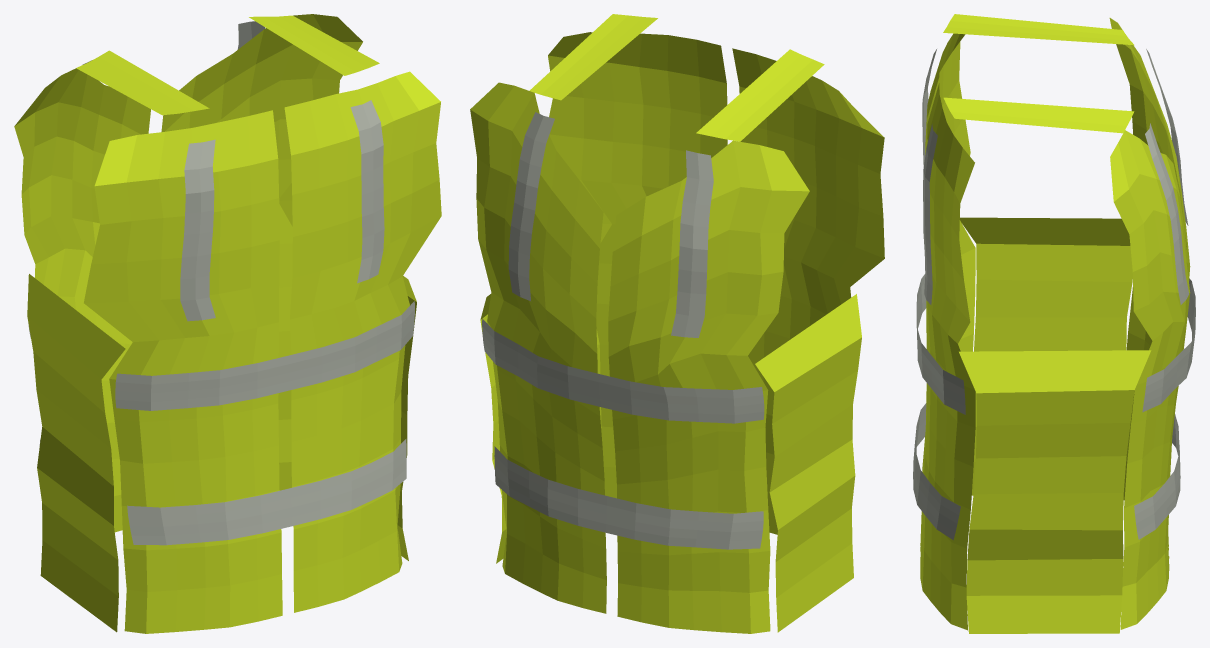
The model's file is lwf_steward_male_overlay_v2.glb.
3 views of the same model, side by side, from view 1: azimuth 30°, elevation 25°; view 2: azimuth 150°, elevation 25°; view 3: azimuth 270°, elevation 25° (orthographic). The views are drawn at different scales.
Parts seen in each view (by area): view 1: LWF_Steward_Male_Overlay; view 2: LWF_Steward_Male_Overlay; view 3: LWF_Steward_Male_Overlay.
Boxes of the visible parts, x1,y1,x2,y2 form: LWF_Steward_Male_Overlay: [14, 14, 441, 633]; LWF_Steward_Male_Overlay: [470, 14, 884, 633]; LWF_Steward_Male_Overlay: [913, 14, 1195, 633].
Size of the model in its own units: 0.3357 by 0.4614 by 0.2363.
1 material, 1 textured.
